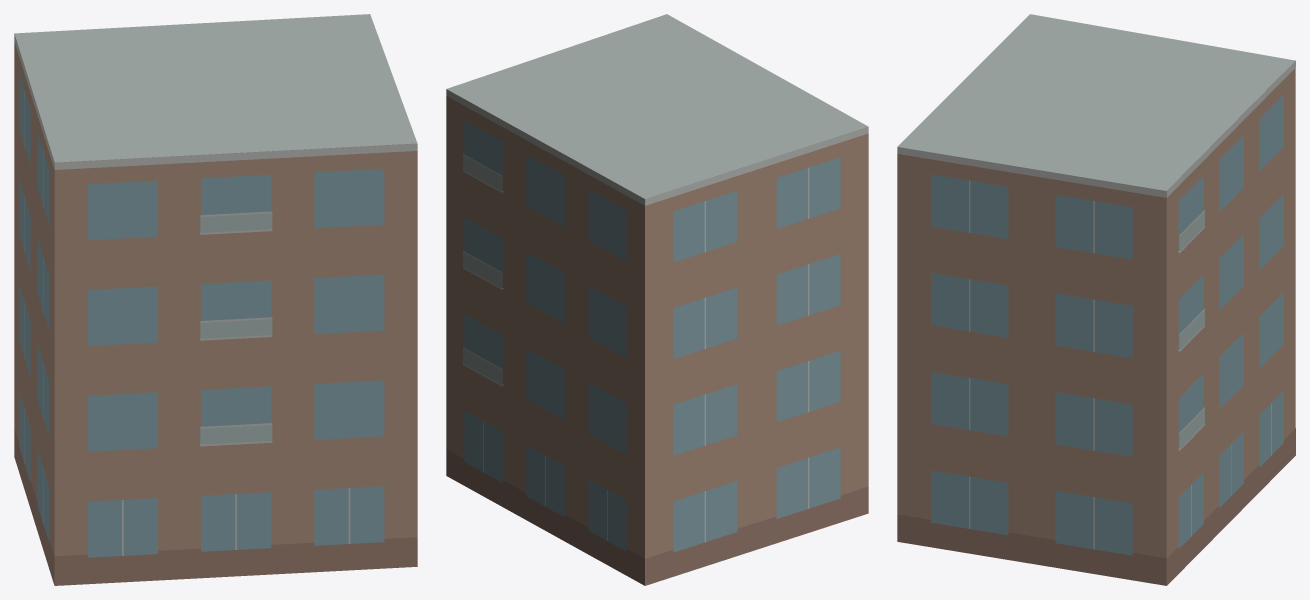
The model's file is survey-upis-32810629.glb.
3 views of the same model, side by side, from view 1: azimuth 30°, elevation 25°; view 2: azimuth 150°, elevation 25°; view 3: azimuth 270°, elevation 25° (orthographic). The views are drawn at different scales.
Visible parts, largest first — view 1: survey-upis-32810629.tmp; view 2: survey-upis-32810629.tmp; view 3: survey-upis-32810629.tmp.
Boxes of the visible parts, <box> form: survey-upis-32810629.tmp: <box>14,14,417,585</box>; survey-upis-32810629.tmp: <box>446,14,868,585</box>; survey-upis-32810629.tmp: <box>897,14,1295,585</box>.
Size of the model in its own units: 13.42 by 13.95 by 12.77.
